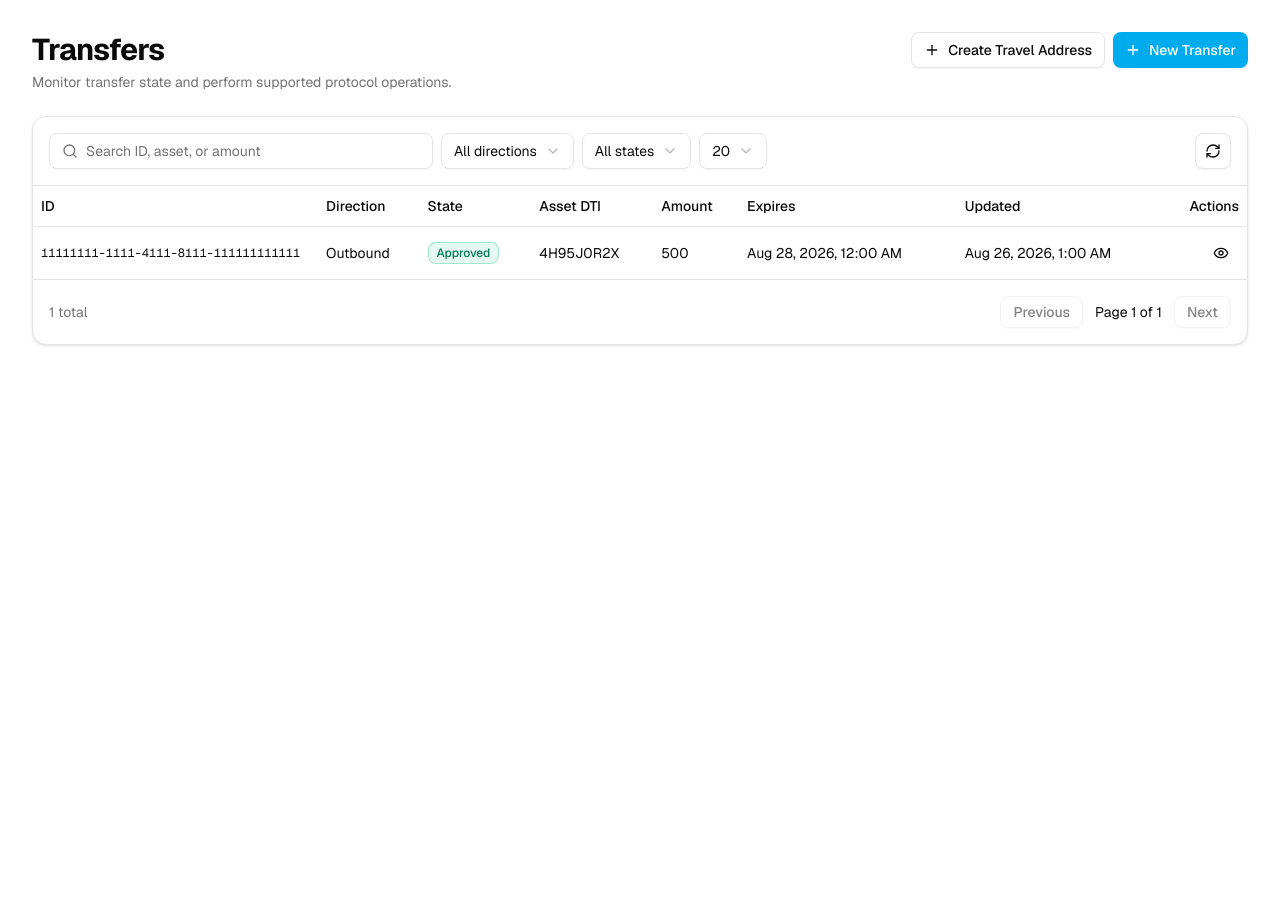
Test: keeps the email action active for a server-authorized rejected outbound transfer
Step 1. Click the button named "View transfer 11111111-1111-4111-8111-111111111111" → x=1221, y=252, box [1203,234,1239,270]
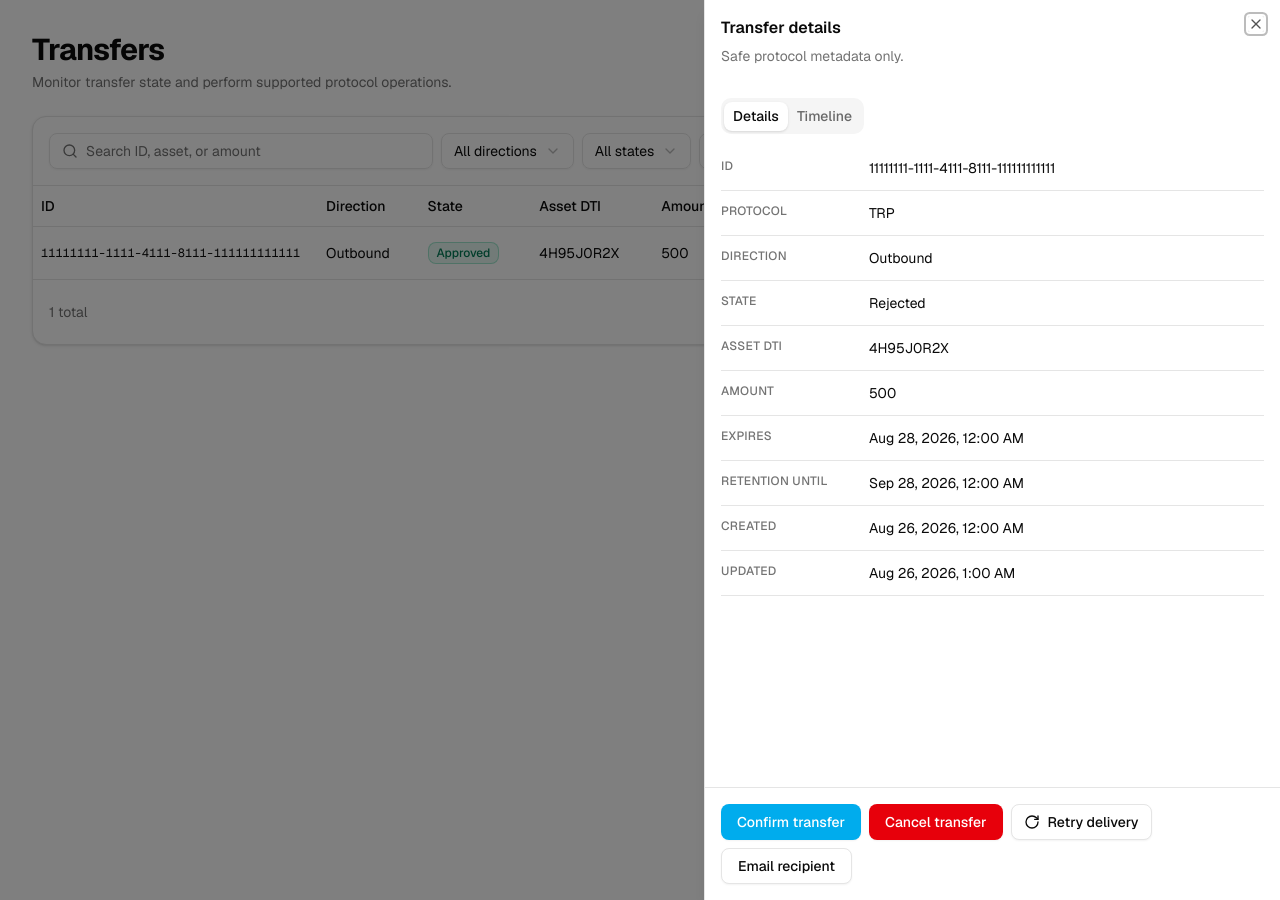
Check: the button "Email recipient" is enabled
Step 2. Click the button "Email recipient" → x=786, y=866, box [721,848,852,884]
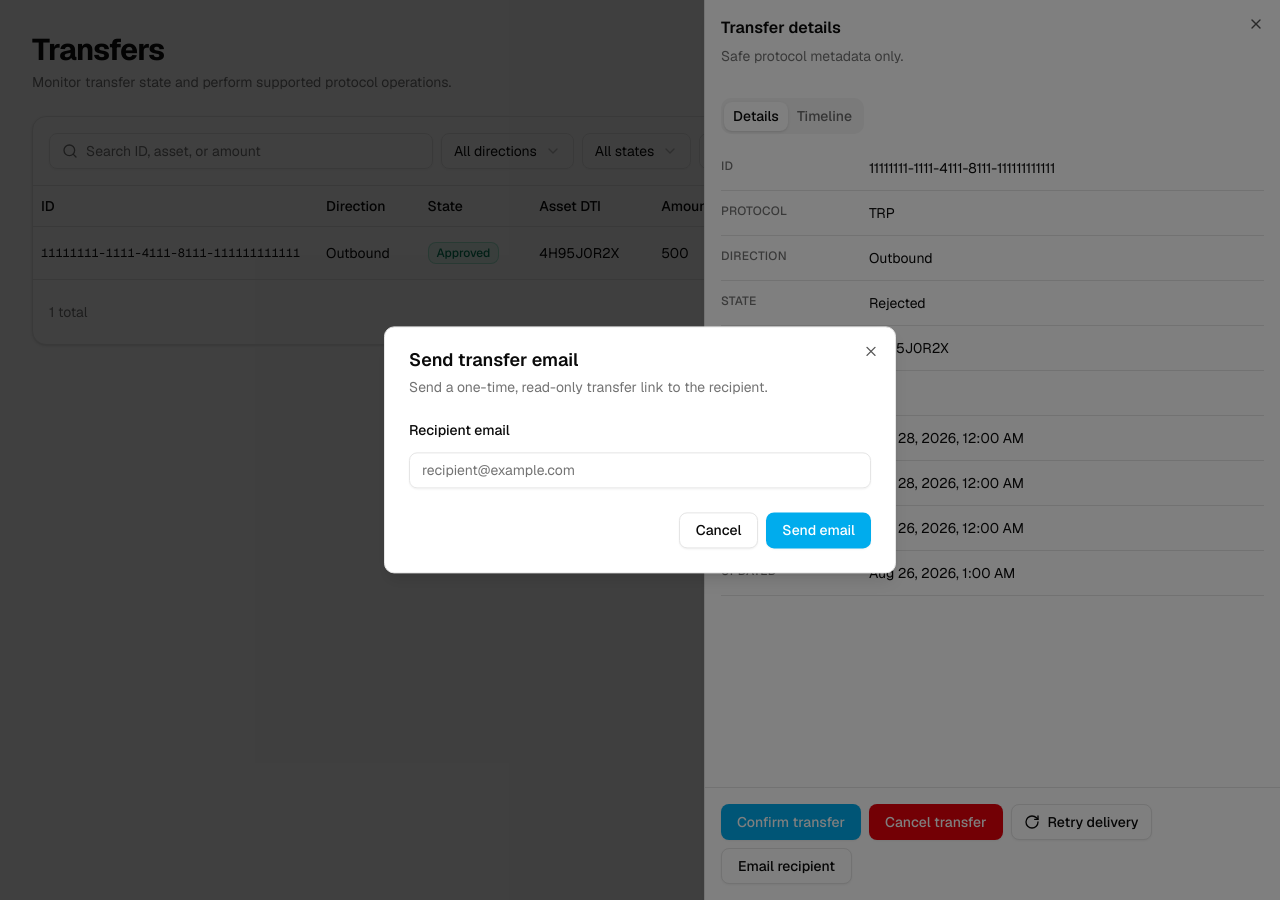
Check: the dialog "Send transfer email" is shown, box [384,326,896,574]
